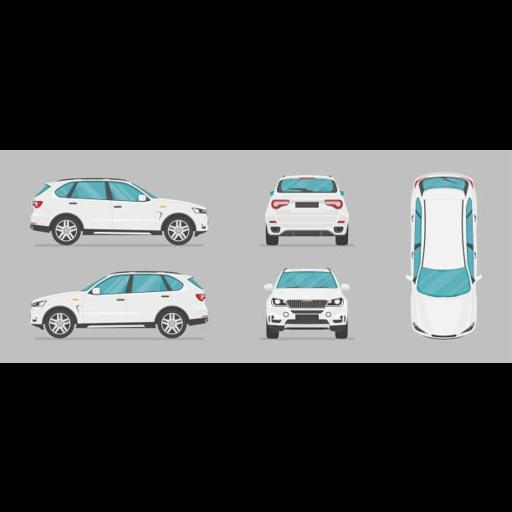suv: (406, 173, 480, 338), (31, 272, 207, 338), (31, 179, 208, 243), (265, 268, 348, 338), (265, 176, 348, 245)
